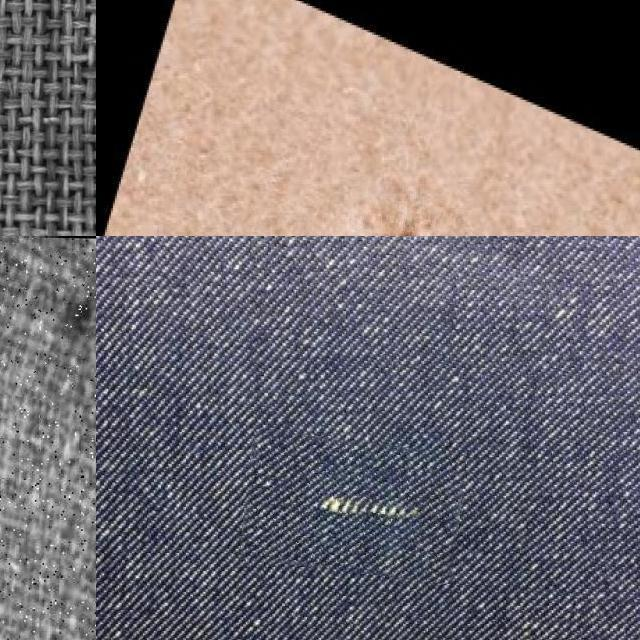other: (0, 248, 96, 414), (315, 198, 481, 236)
stains: (242, 434, 464, 578)
